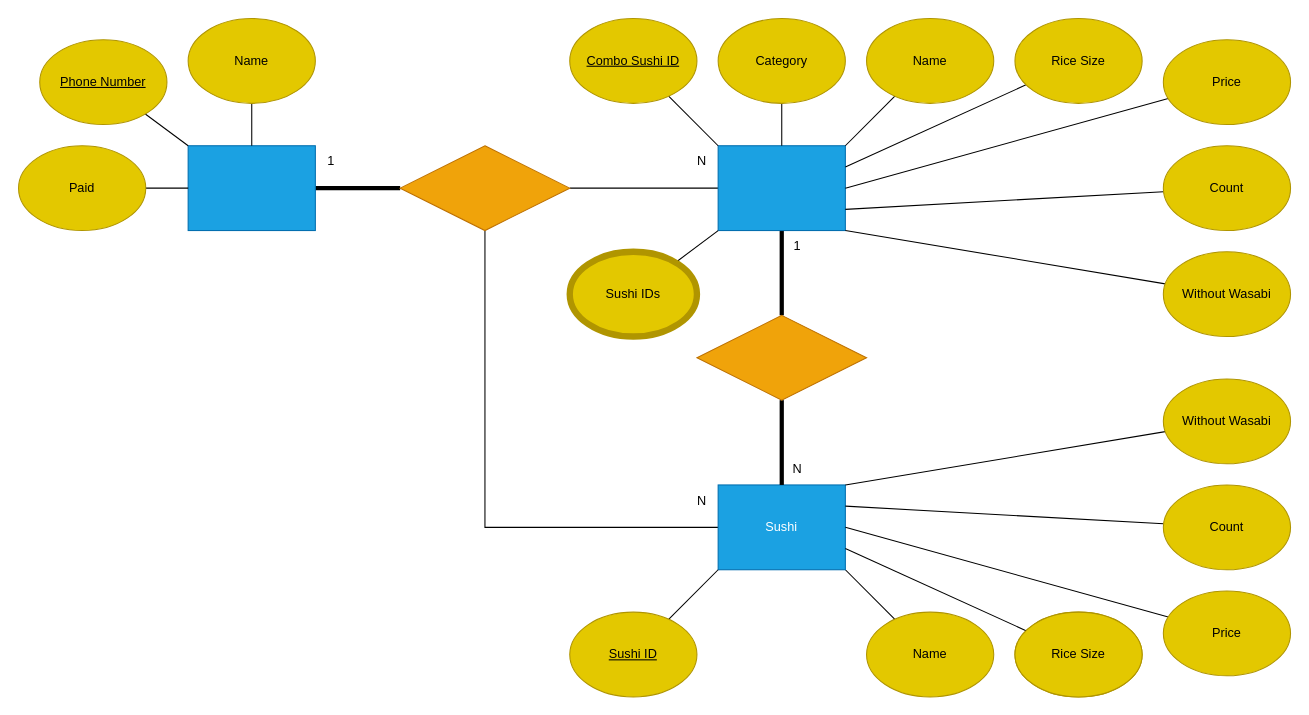
Some shapes in this 1309 by 715 pixel diagram are drawn without their labels. Each missing label, with the box of its shape:
Combo Sushi: (717, 145, 845, 231)
Contains: (696, 314, 867, 400)
Orderer: (187, 145, 315, 231)
Orders: (399, 145, 570, 231)
